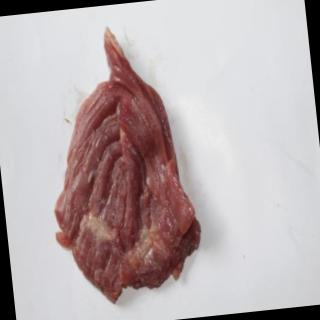Daging Sapi: (35, 20, 212, 311)
